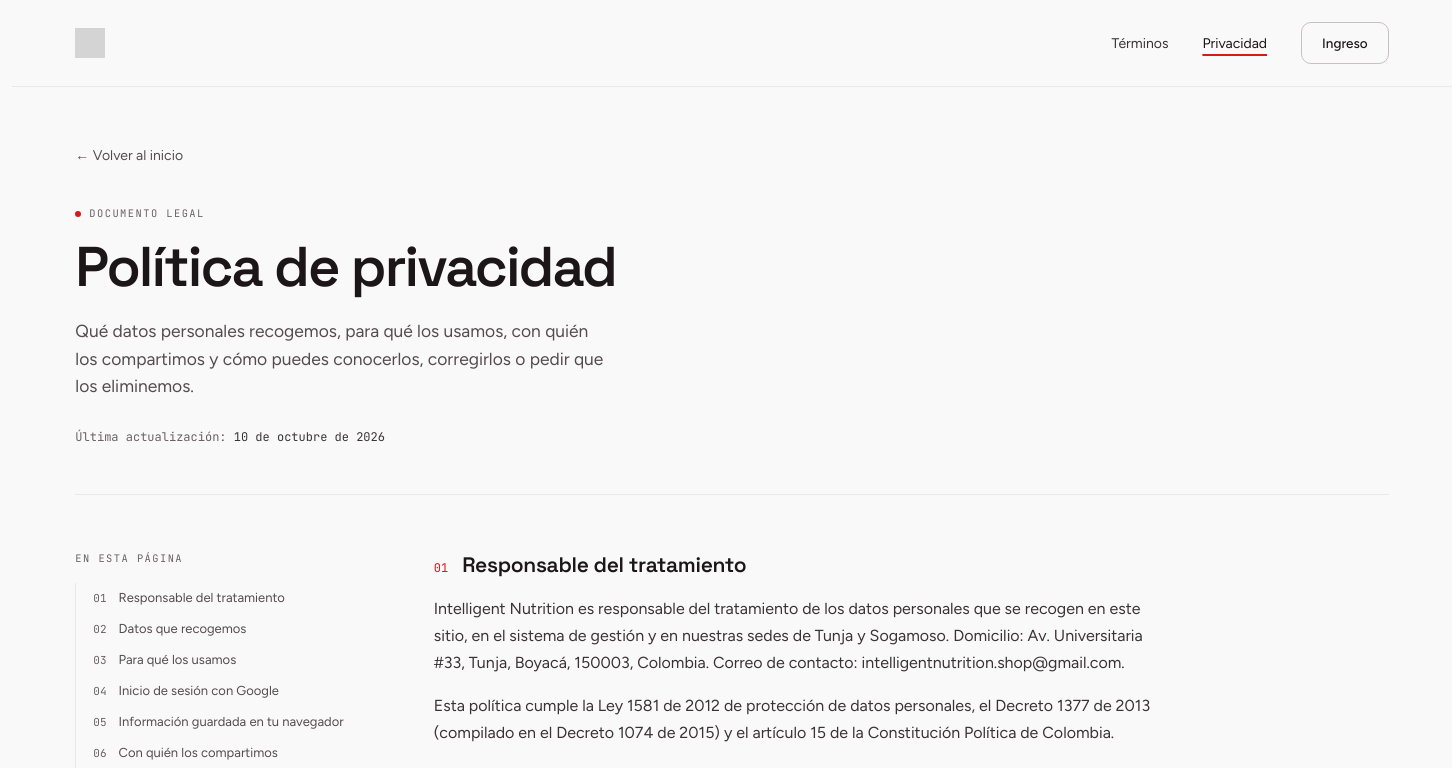
it: legal pages navigation › goes back to the landing page
Click the link "← Volver al inicio": (129, 156) [75,145,183,166]
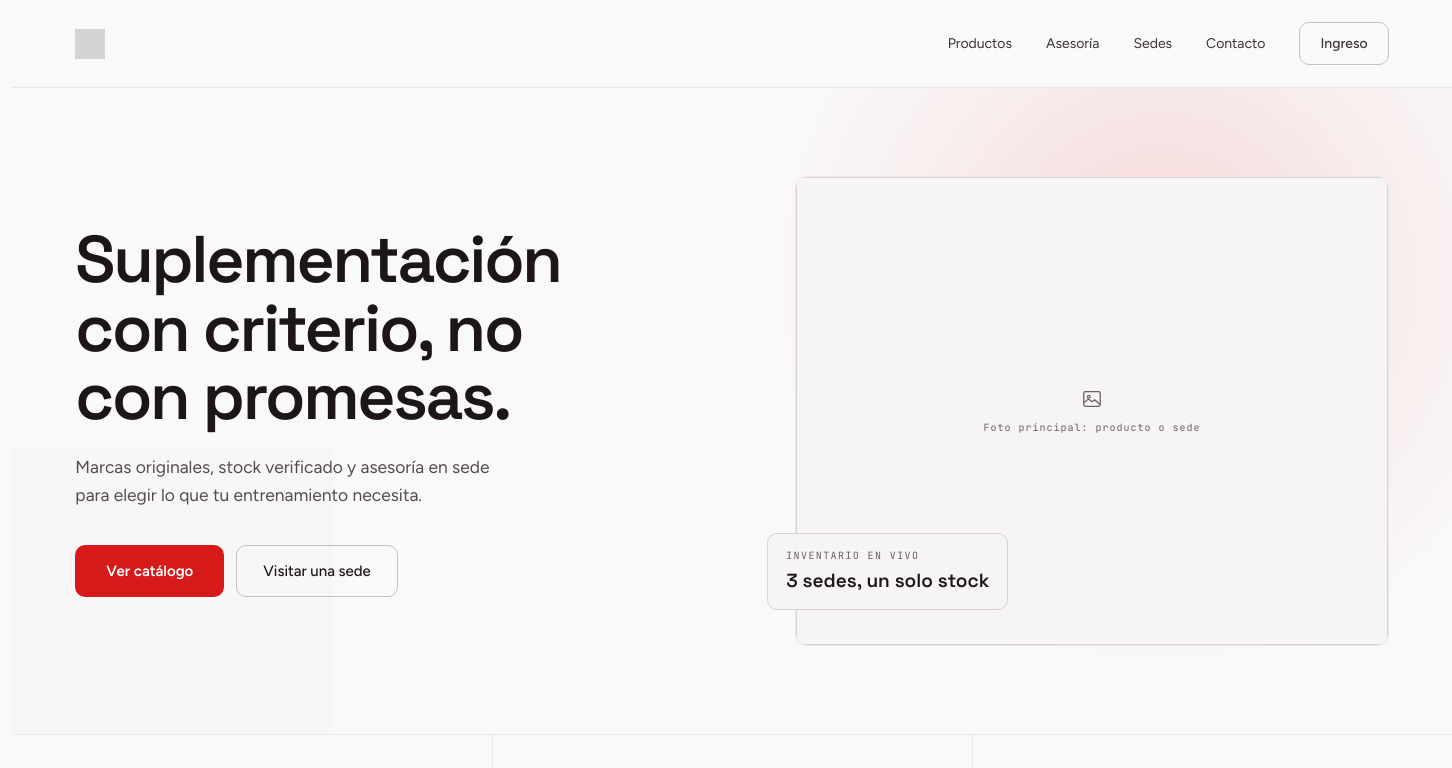
Result: the heading "Suplementación" is shown at [75,217,561,438]
